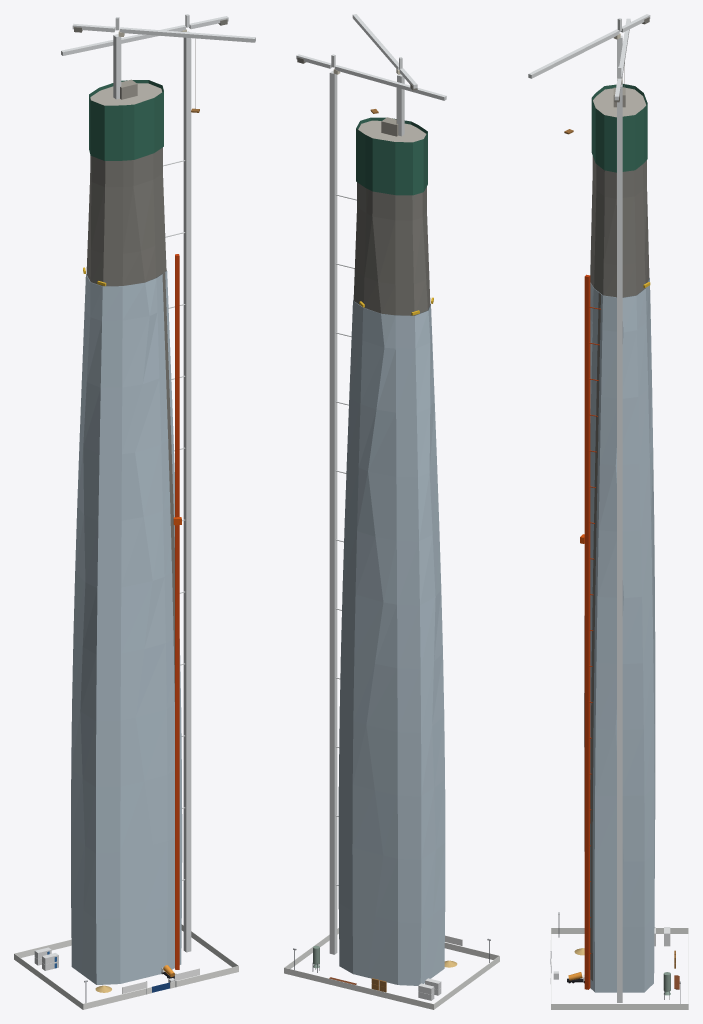
Rendered from plateau-tour-f.glb.
3 views of the same model, side by side, from view 1: azimuth 30°, elevation 25°; view 2: azimuth 150°, elevation 25°; view 3: azimuth 270°, elevation 25° (orthographic). The views are drawn at different scales.
Size of the model in its own units: 77.7 by 397 by 60.69.
